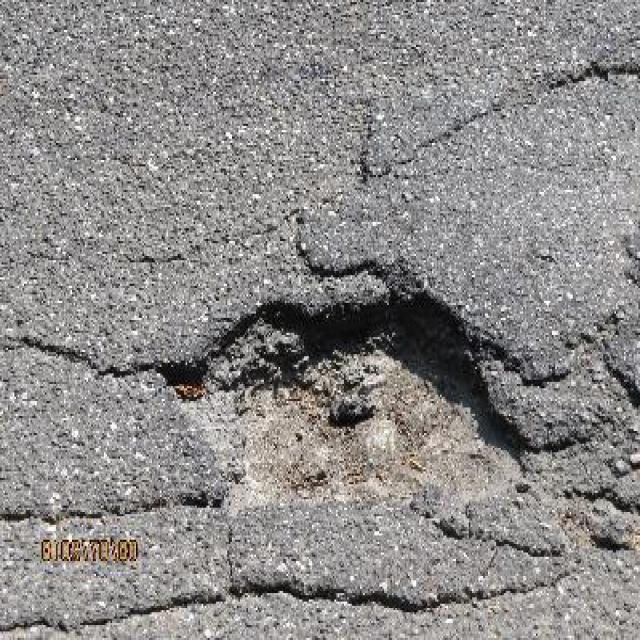pothole: (157, 277, 536, 514)
